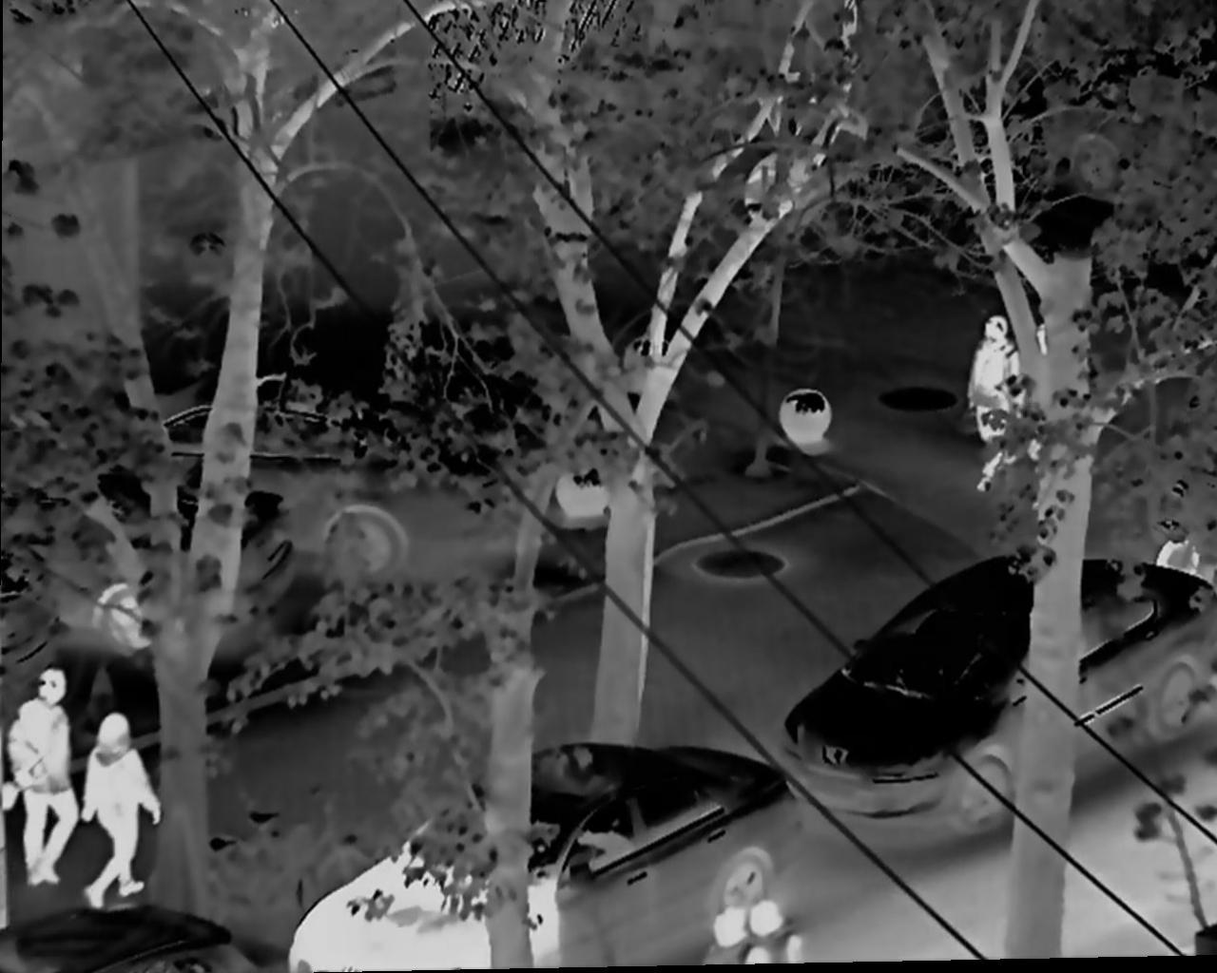person: (4, 664, 81, 903), (79, 700, 158, 916), (961, 315, 1029, 492), (1032, 316, 1081, 486)
